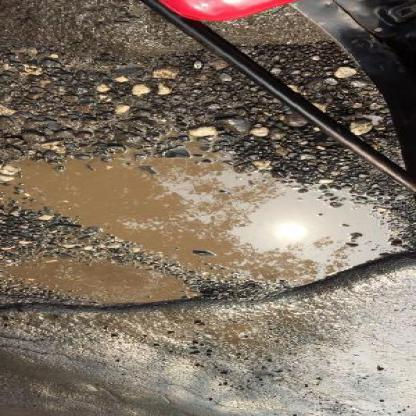pothole: (2, 134, 416, 317)
